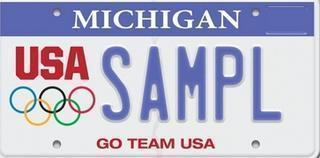placa de veiculo: (1, 1, 315, 153)
